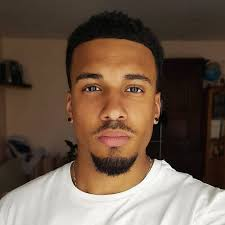black_male: (54, 4, 169, 182)
